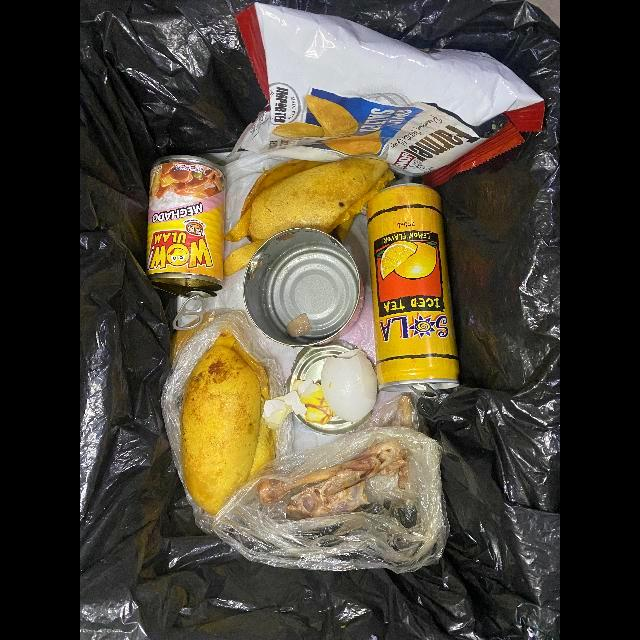aluminum: (367, 184, 460, 401), (243, 228, 364, 347), (145, 156, 227, 297), (283, 339, 378, 436), (173, 299, 203, 331)
food_wrapper: (234, 3, 545, 188)
left_over_food: (259, 439, 411, 521)
plastic_bag: (191, 393, 450, 575), (161, 309, 298, 536)
